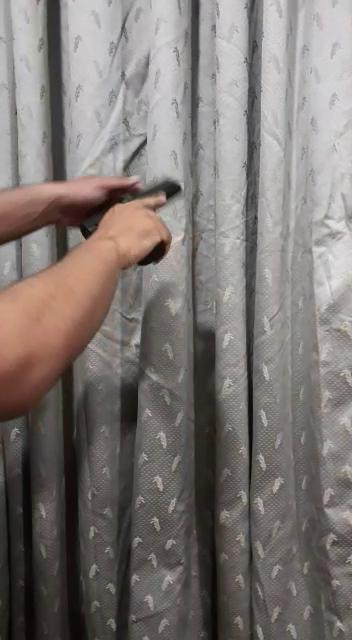weapon: (74, 166, 190, 270)
